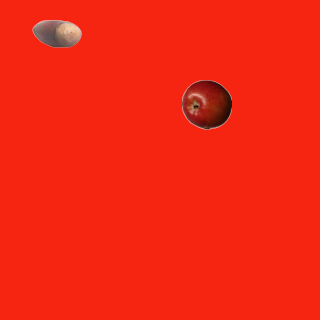Apple Braeburn: (181, 79, 231, 129)
Hazelnut: (31, 8, 81, 58)
